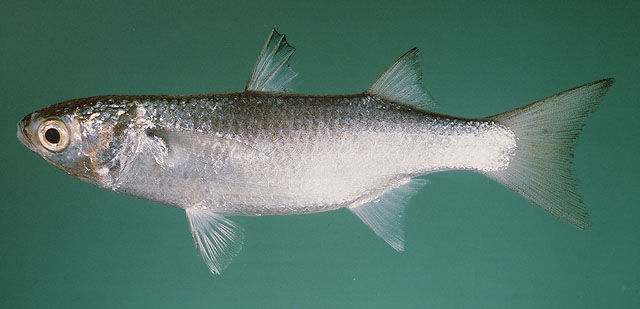fish: (17, 24, 615, 277)
